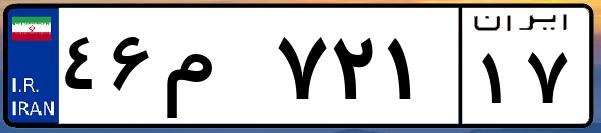1: (385, 28, 445, 110), (475, 38, 525, 113)
2: (330, 28, 385, 110)
4: (57, 26, 110, 100)
6: (110, 28, 158, 98)
7: (270, 28, 330, 110), (525, 38, 570, 115)
م: (158, 20, 270, 120)
